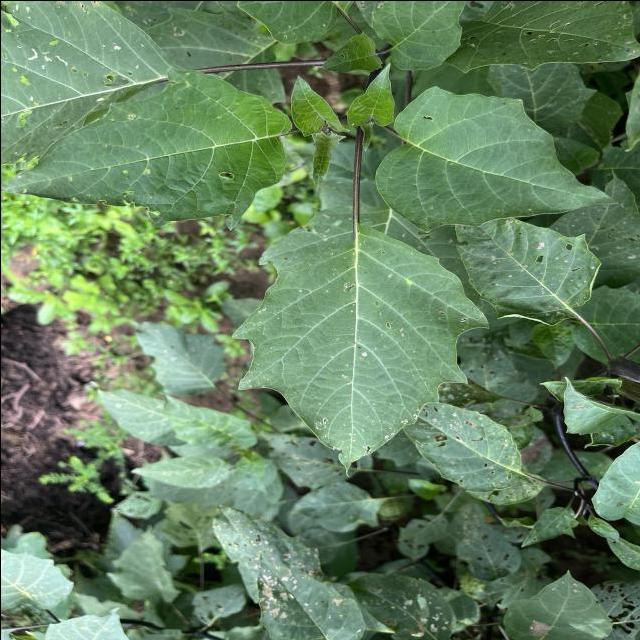Datura metal linn: (227, 219, 492, 479), (0, 59, 295, 234), (368, 81, 620, 236)
